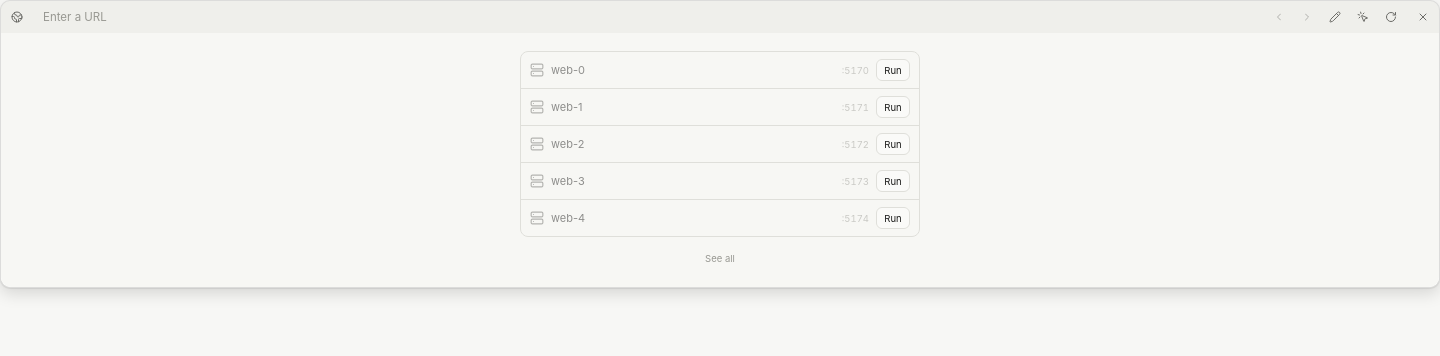
Test: BrowserPanel dev servers › renders the start page with the first five servers and reveals the rest on See all
The width and height of the screenshot is (1440, 356).
Check: the number of list items is 5, box [521, 52, 919, 89]; [521, 89, 919, 126]; [521, 126, 919, 163]; [521, 163, 919, 200]; [521, 200, 919, 236]
Click the button "See all".
click(720, 258)  # box [697, 247, 743, 269]
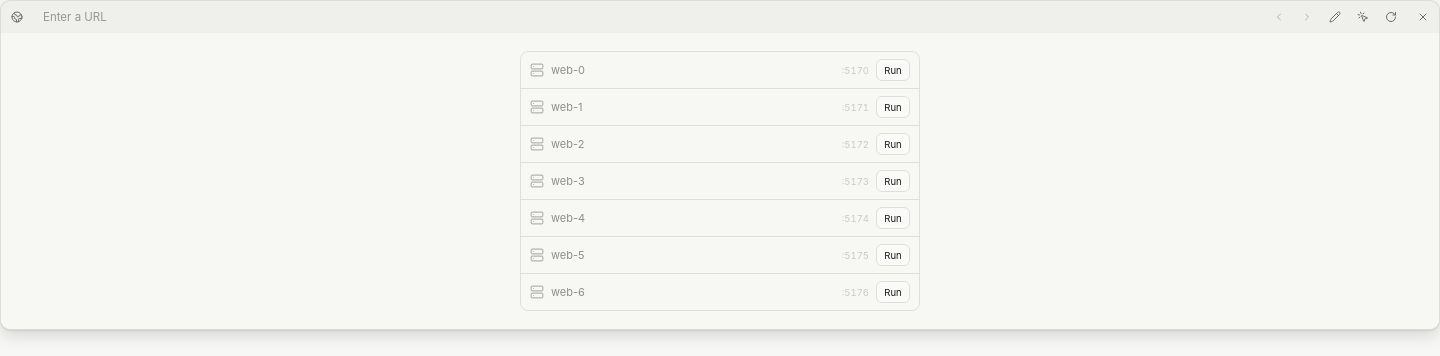
Check: the number of list items is 7
